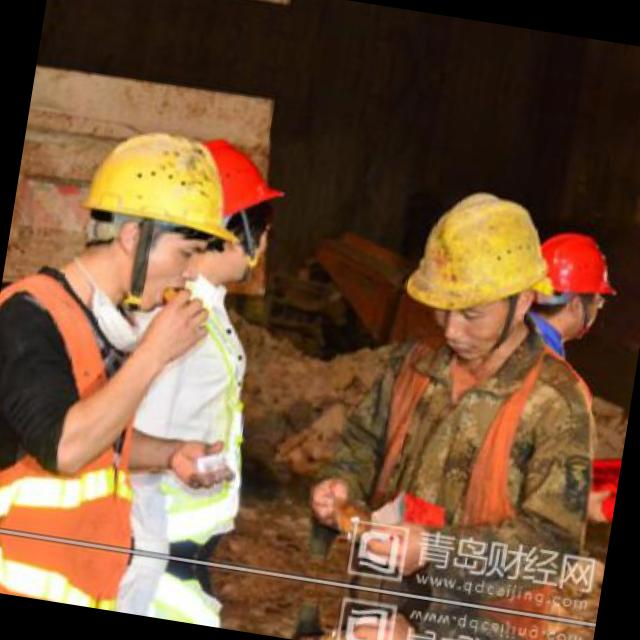helmet: (71, 119, 242, 304), (393, 181, 560, 368), (178, 131, 296, 295), (514, 220, 624, 352)
